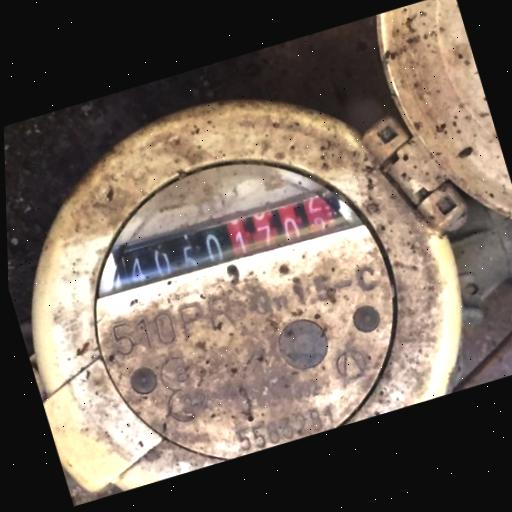0: (271, 199, 312, 246), (195, 222, 236, 267), (144, 237, 181, 282)
1: (223, 215, 258, 260)
2: (298, 191, 340, 238)
4: (118, 245, 157, 290)
5: (170, 230, 207, 275)
7: (247, 208, 284, 254)
border_water_meter_number: (108, 178, 349, 295)
